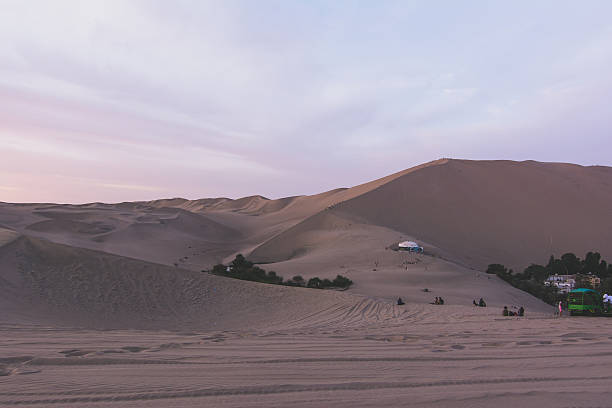human: (558, 301, 562, 316), (478, 298, 485, 306), (518, 306, 524, 315), (397, 297, 404, 304), (503, 306, 508, 315), (439, 297, 443, 304)
vehicle_track: (0, 376, 611, 405)
